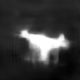plane: (14, 28, 71, 66)
